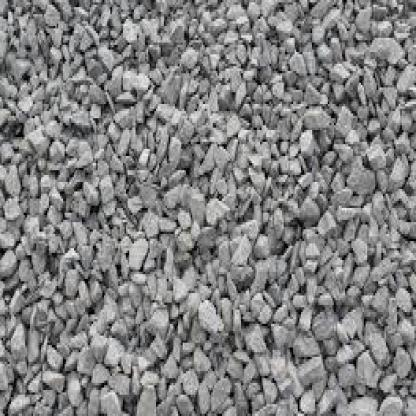Metamorphic_Marble: (195, 293, 230, 338), (148, 300, 173, 343), (350, 158, 378, 196), (122, 62, 154, 94), (234, 213, 262, 248), (128, 232, 151, 274), (99, 168, 118, 217), (76, 340, 99, 378), (42, 338, 68, 371), (104, 331, 126, 369), (16, 85, 38, 121), (268, 63, 288, 102), (189, 189, 208, 225), (299, 125, 320, 156), (228, 109, 245, 142), (228, 64, 245, 94), (272, 19, 294, 38)
